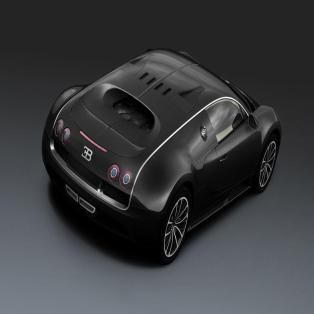Auto: (41, 45, 282, 262)
